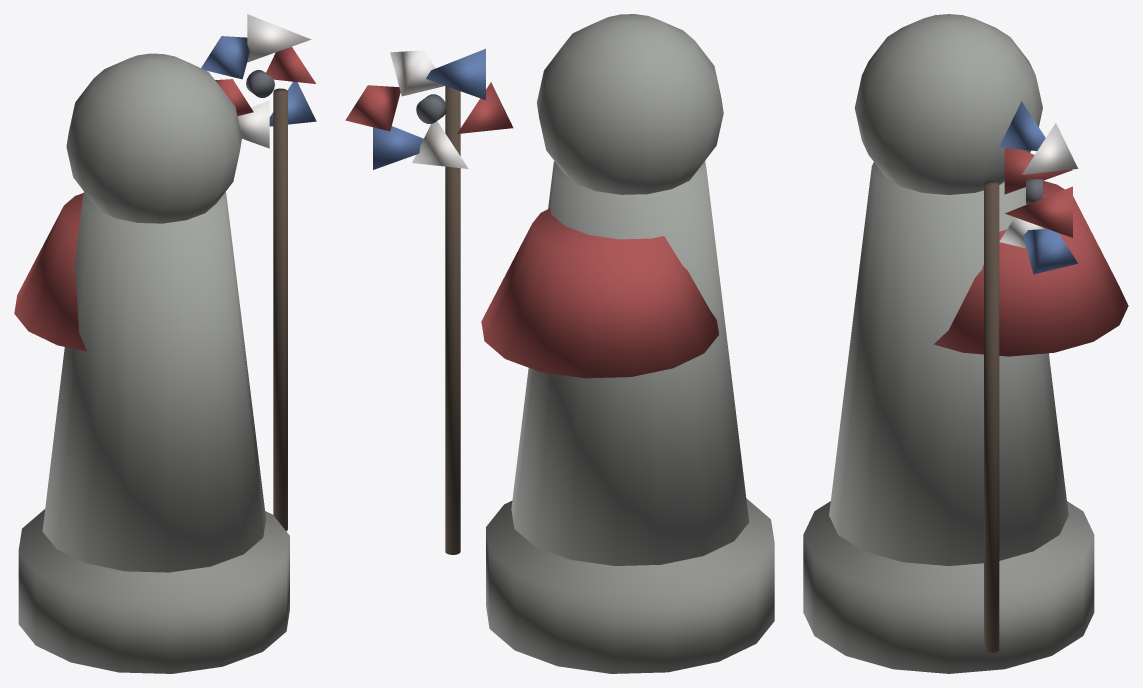
The model's file is prop_mizuko_jizo.glb.
3 views of the same model, side by side, from view 1: azimuth 30°, elevation 25°; view 2: azimuth 150°, elevation 25°; view 3: azimuth 270°, elevation 25° (orthographic). The views are drawn at different scales.
Parts seen in each view (by area): view 1: mizuko_jizo; view 2: mizuko_jizo; view 3: mizuko_jizo.
Boxes of the visible parts, x1=… form: mizuko_jizo: x1=14, y1=14, x2=316, y2=673; mizuko_jizo: x1=345, y1=14, x2=774, y2=673; mizuko_jizo: x1=803, y1=14, x2=1128, y2=673.
Size of the model in its own units: 0.9406 by 1.52 by 0.76.
